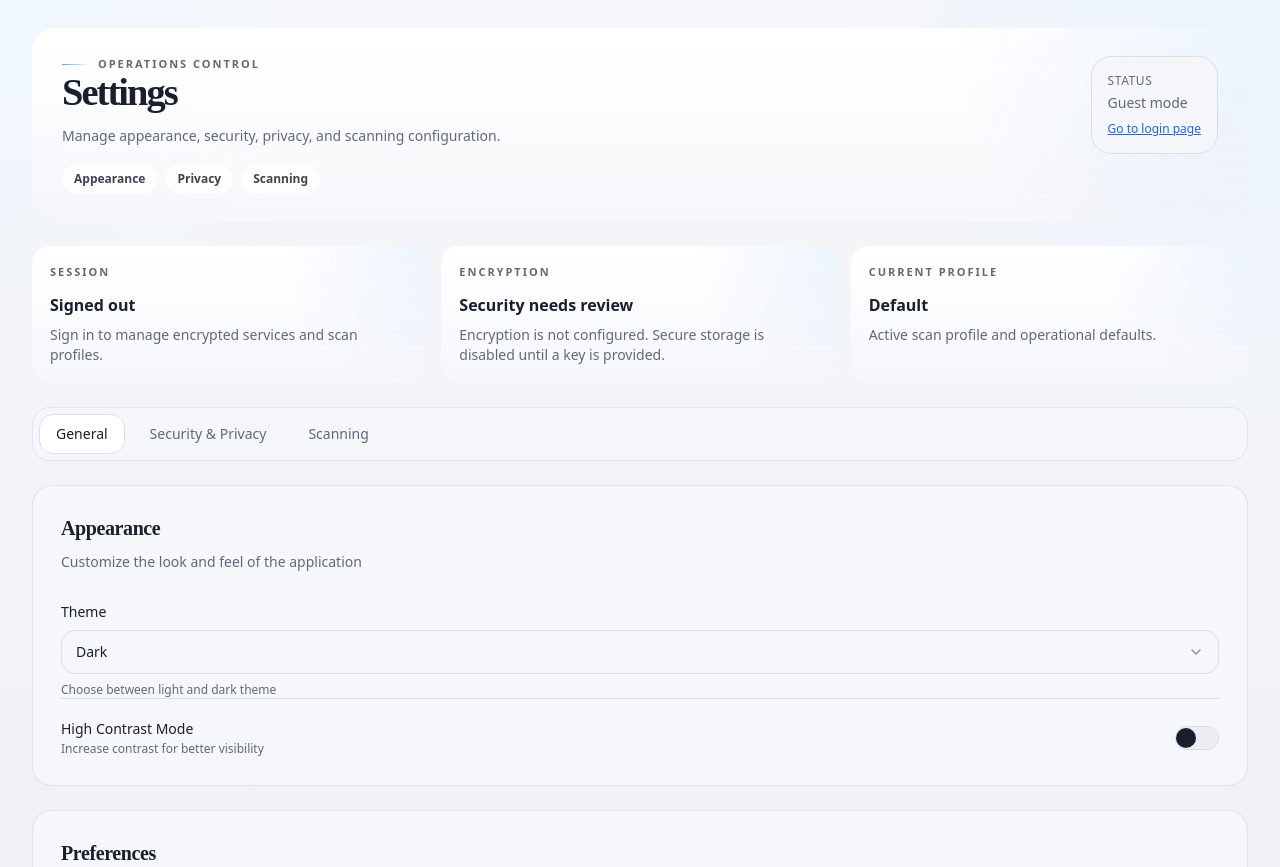
Test: Settings encryption status panel › renders warning state when encryption is not ready
Click the button "Security & Privacy": {"x": 208, "y": 434} [133, 414, 283, 454]
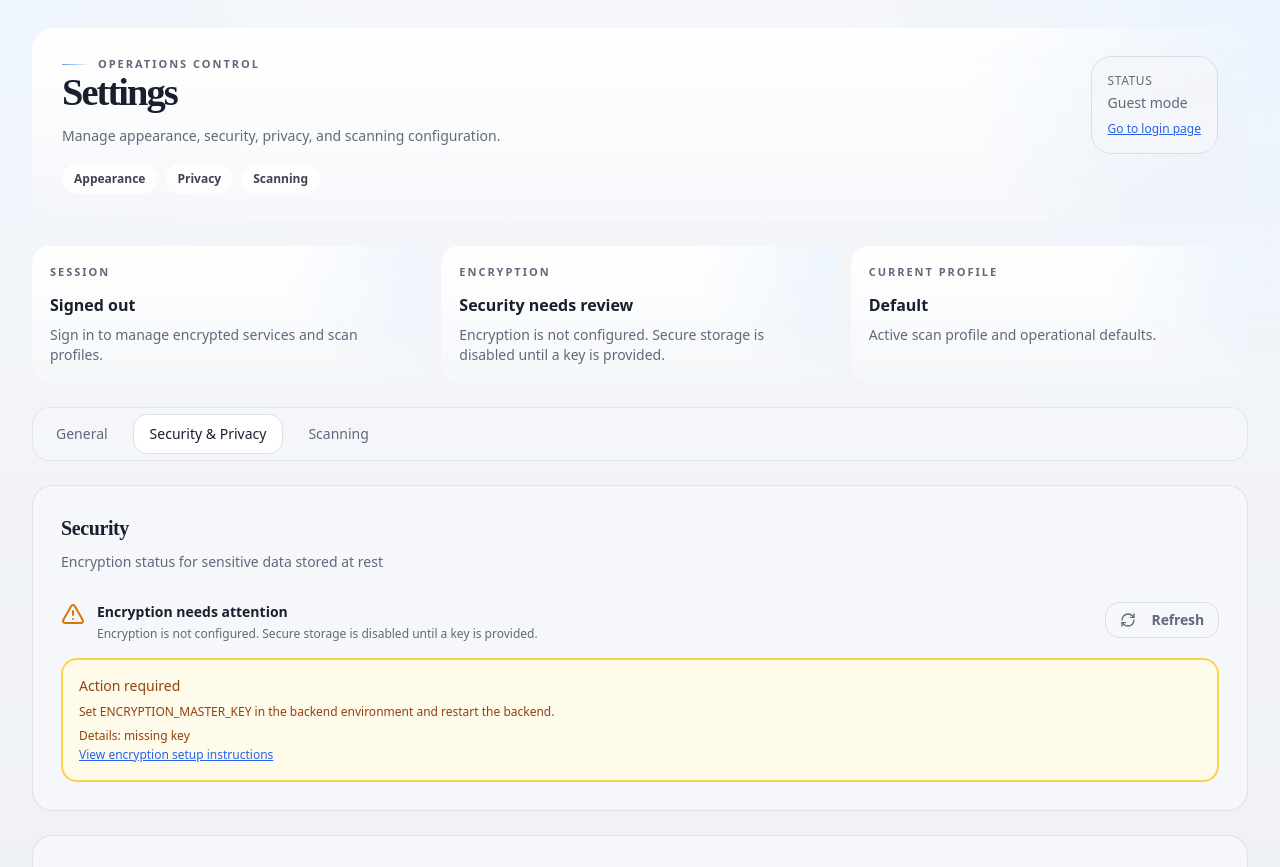
expect the text "Action required" is shown: met, box [79, 676, 180, 695]
expect the text "Set ENCRYPTION_MASTER_KEY" is shown: met, box [79, 703, 554, 720]
expect the text "Details: missing key" is shown: met, box [79, 727, 190, 744]
